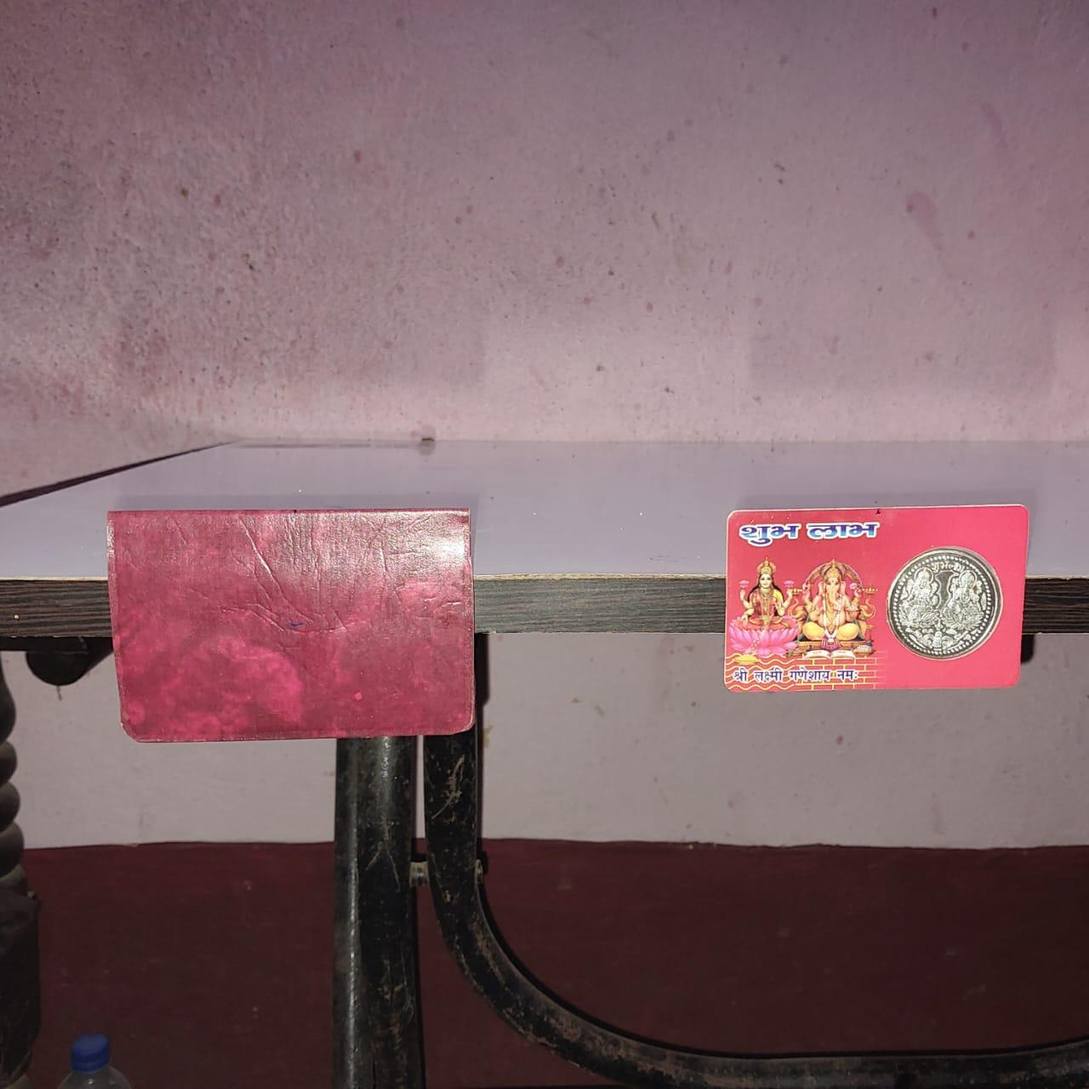blessing_card: (723, 497, 1029, 694)
wallet: (105, 504, 485, 743)
